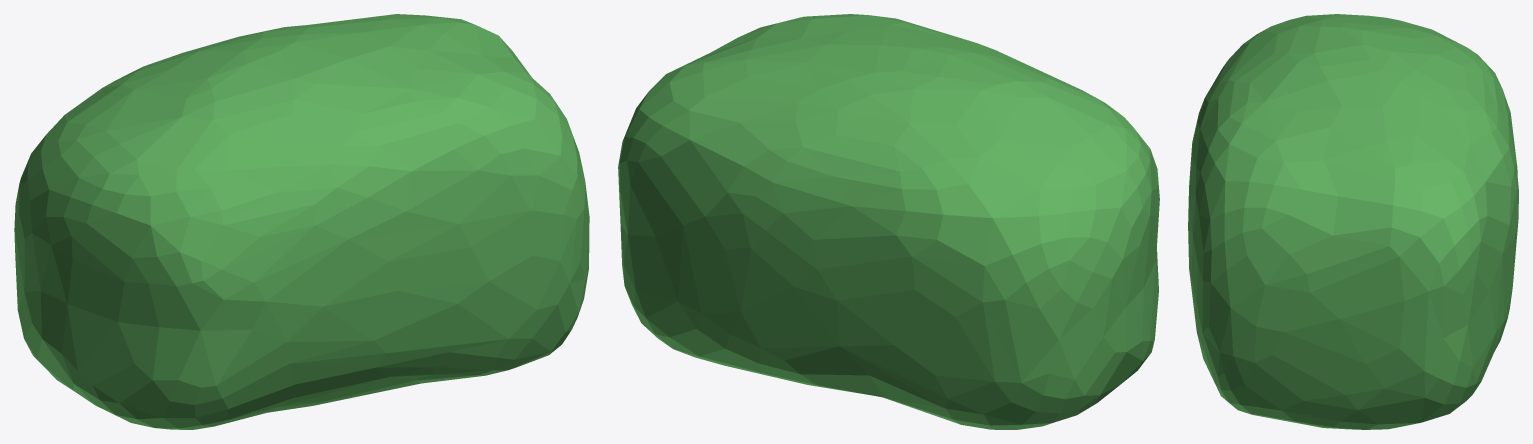
Rendered from arbusto.glb.
The picture shows the model from 3 angles, left to right: view 1: azimuth 30°, elevation 25°; view 2: azimuth 150°, elevation 25°; view 3: azimuth 270°, elevation 25°; orthographic projection. The views are drawn at different scales.
Parts seen in each view (by area): view 1: Icosphere.005; view 2: Icosphere.005; view 3: Icosphere.005.
Part boxes in pixels (<box>): Icosphere.005: <box>14,14,589,429</box>; Icosphere.005: <box>618,14,1159,429</box>; Icosphere.005: <box>1188,14,1518,429</box>.
Bounding box in the file's own units: 0.695 × 0.4265 × 0.4489.
